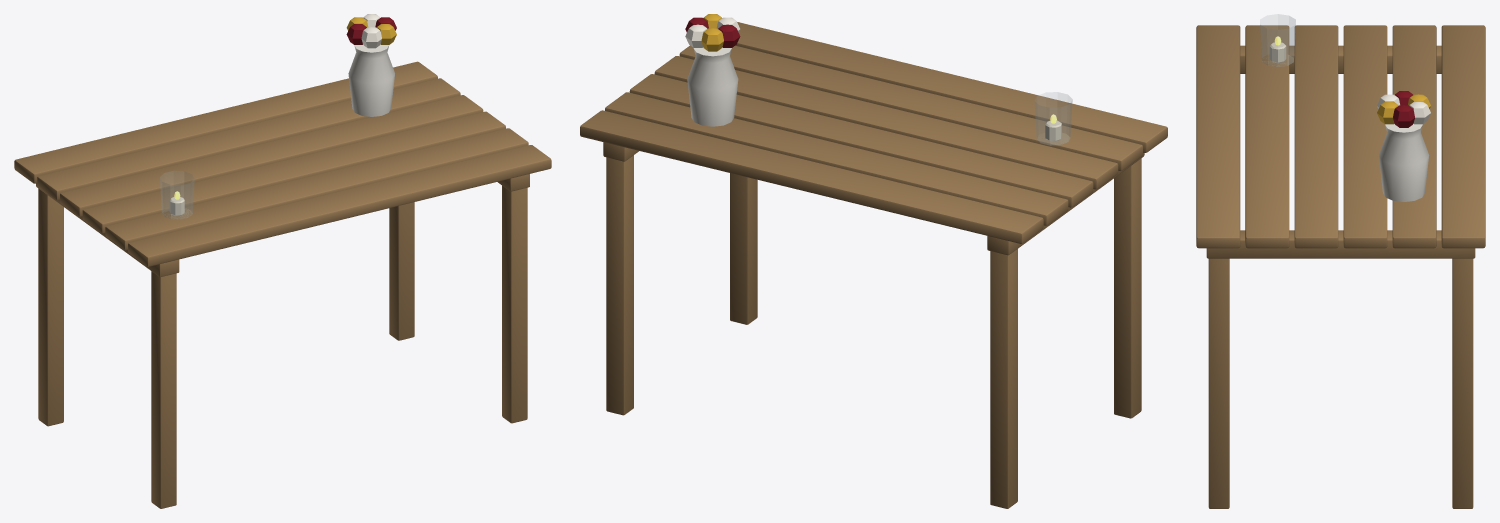
File: mae_terrace_table.glb
3 renders of one model, left to right at view 1: azimuth 30°, elevation 25°; view 2: azimuth 150°, elevation 25°; view 3: azimuth 270°, elevation 25°, orthographic. The views are drawn at different scales.
Parts seen in each view (by area): view 1: mae_terrace_table; view 2: mae_terrace_table; view 3: mae_terrace_table.
Boxes of the visible parts, x1,y1,x2,y2 form: mae_terrace_table: [14, 14, 551, 508]; mae_terrace_table: [580, 14, 1167, 508]; mae_terrace_table: [1196, 14, 1485, 508].
Bounding box in the file's own units: 1.2 × 0.99 × 0.688.
